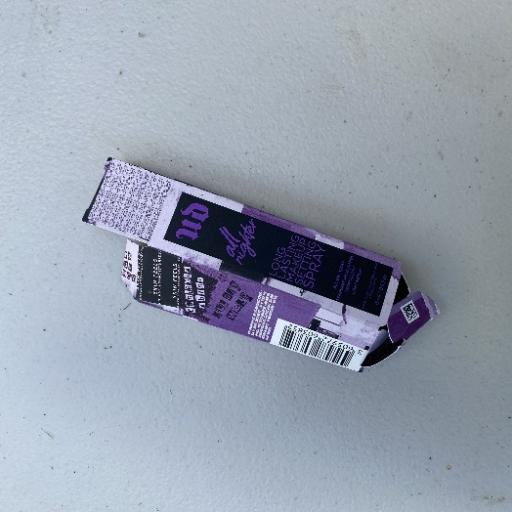Cardboard: (81, 156, 440, 374)
